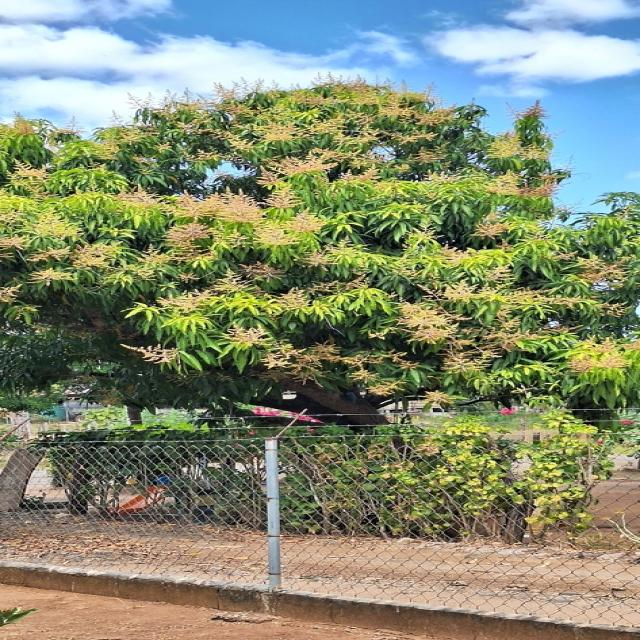Mango-Tree: (6, 83, 640, 406)
